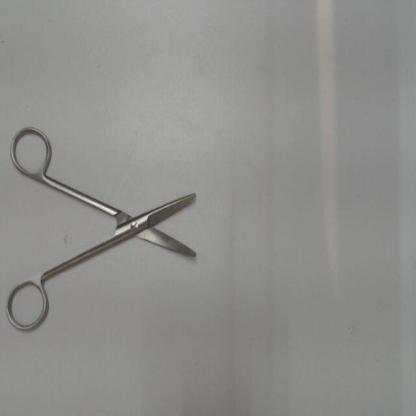Curved Mayo Scissors: (3, 120, 204, 340)
